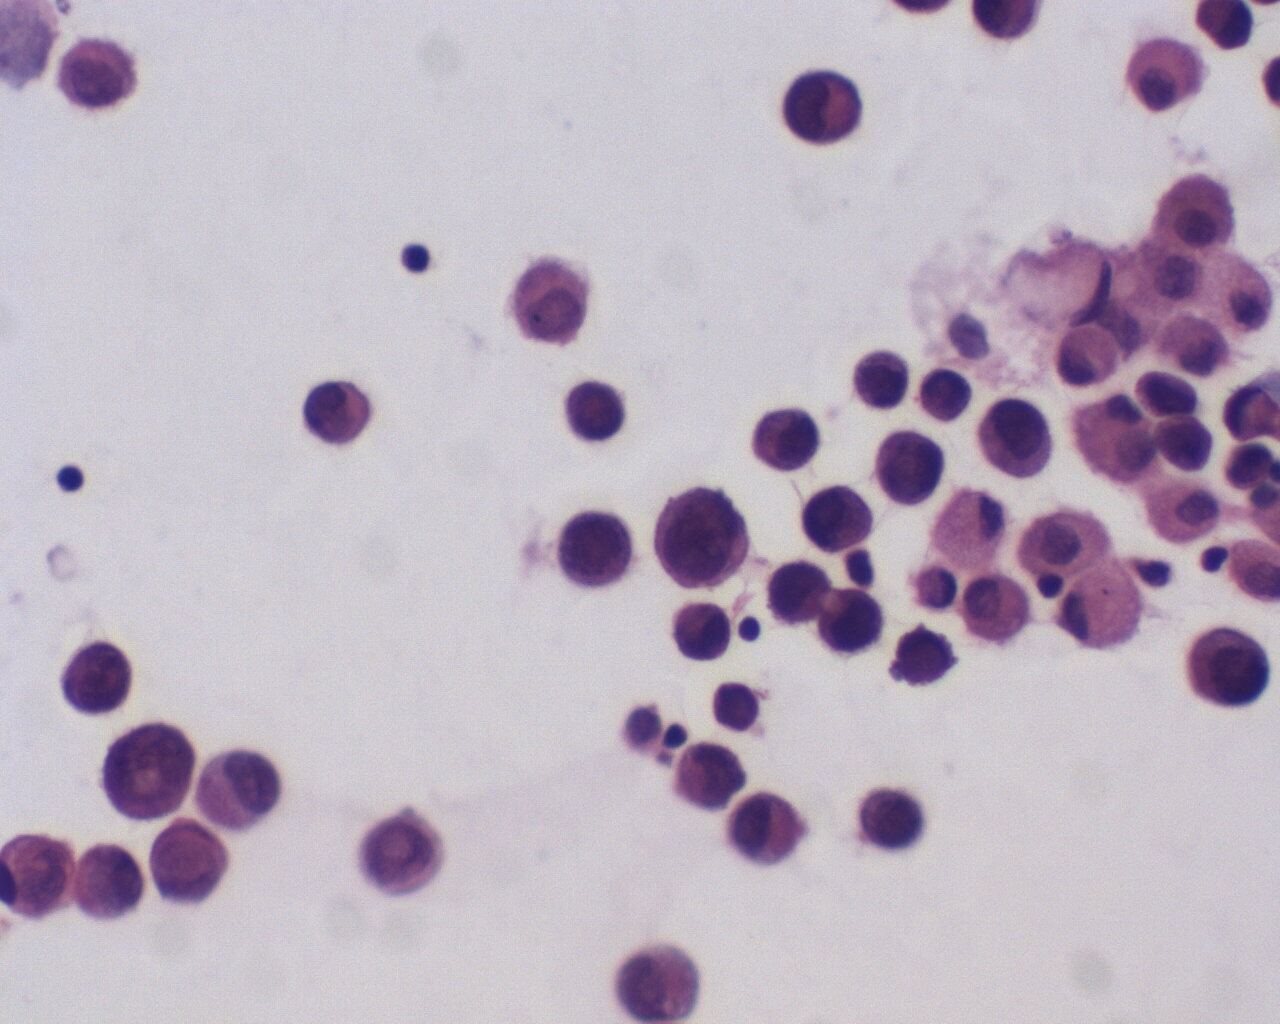ab: (646, 481, 766, 592), (99, 715, 196, 824), (1183, 618, 1279, 721), (553, 508, 649, 603), (971, 385, 1066, 479), (193, 742, 285, 837), (778, 65, 871, 155), (864, 420, 960, 507), (50, 31, 141, 115), (55, 633, 139, 721), (74, 841, 148, 921), (802, 479, 877, 554), (850, 786, 928, 856), (818, 585, 889, 659), (750, 401, 821, 472), (667, 594, 734, 665), (848, 343, 916, 409), (1150, 417, 1220, 473)
histo: (1055, 558, 1149, 656), (927, 482, 1008, 567)
lymph: (396, 239, 440, 277), (54, 458, 89, 501)
meso: (1148, 169, 1243, 259), (1119, 37, 1212, 118), (961, 571, 1037, 647)
